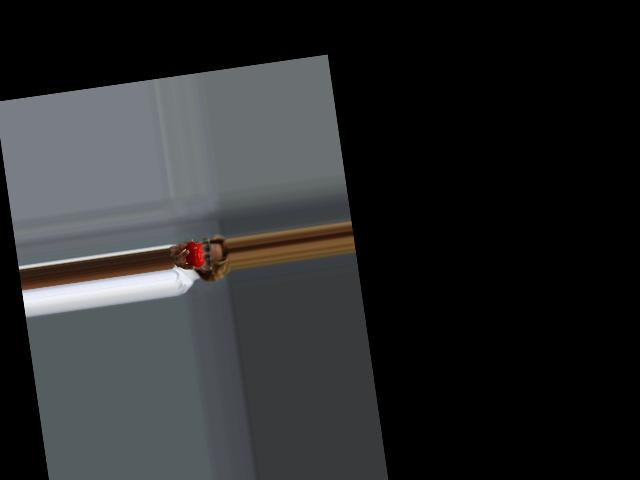tomato: (183, 241, 204, 269)
